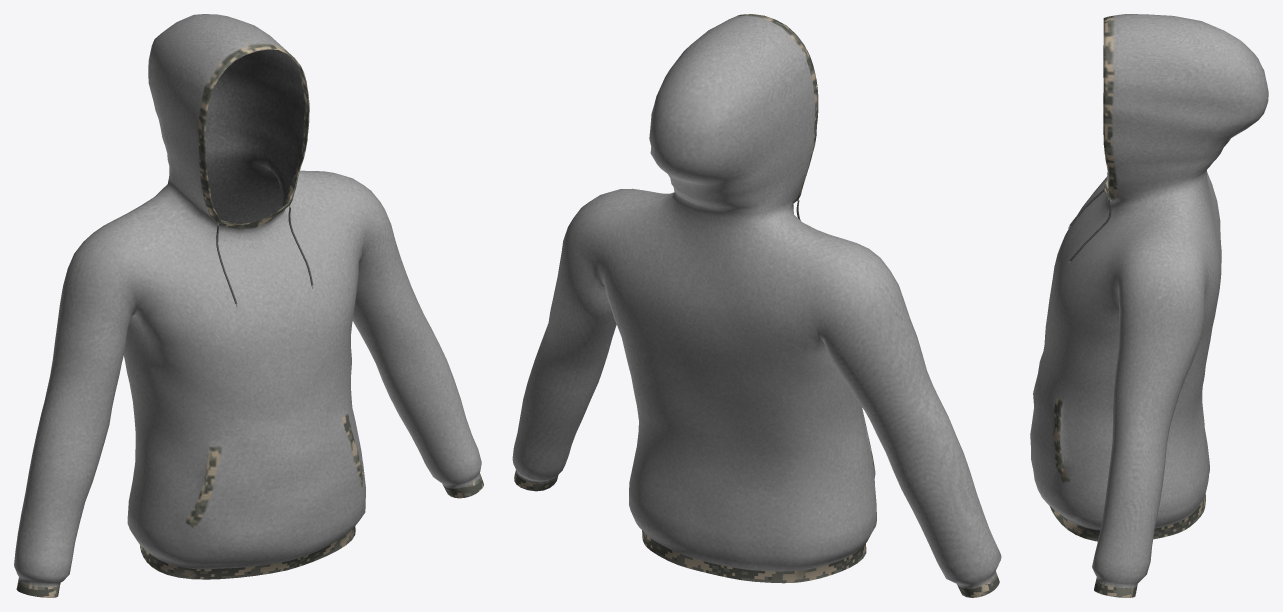
File: buzo-capucha-v1.glb
3 renders of one model, left to right at view 1: azimuth 30°, elevation 25°; view 2: azimuth 150°, elevation 25°; view 3: azimuth 270°, elevation 25°, orthographic. The views are drawn at different scales.
Parts seen in each view (by area): view 1: Object_2; view 2: Object_2; view 3: Object_2.
Boxes of the visible parts, box(x1,y1,x2,y2) form: Object_2: box(14, 14, 483, 597); Object_2: box(512, 14, 1001, 597); Object_2: box(1030, 14, 1268, 597).
Bounding box in the file's own units: 12.13 × 12.59 × 5.7.
Materials: 1 (1 with a texture image).
